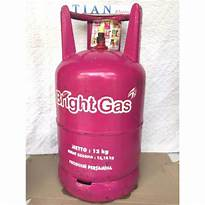bright_gas: (56, 2, 147, 204)
